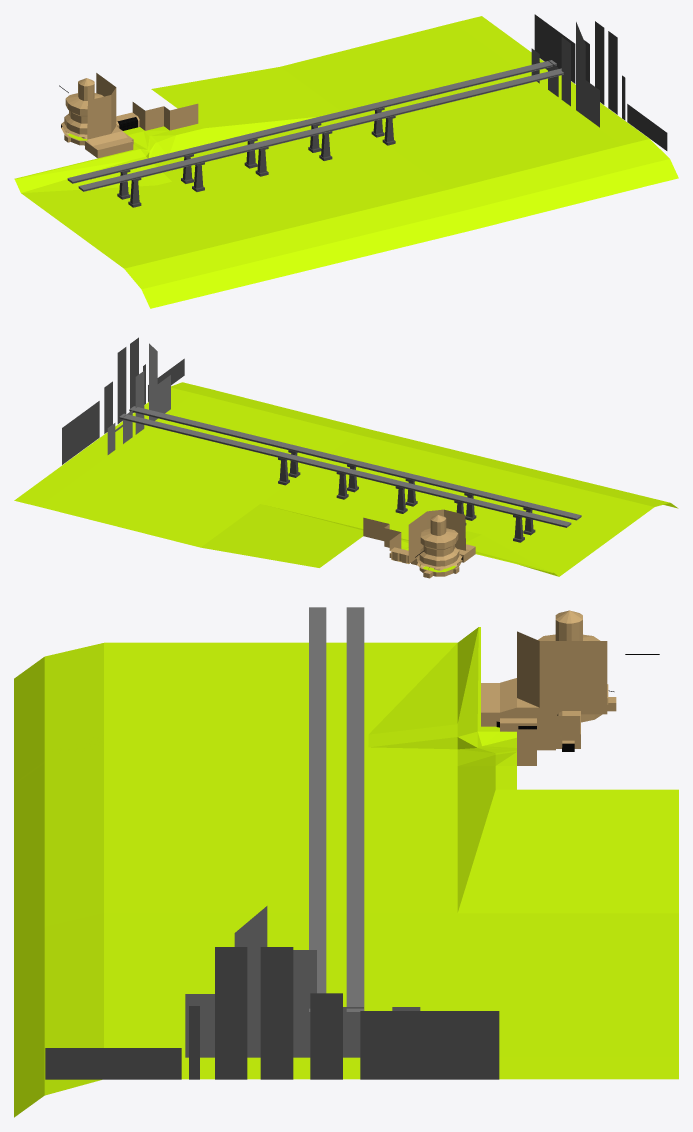
The model's file is Lobby.obj.
3 views of the same model, one above another, from view 1: azimuth 30°, elevation 25°; view 2: azimuth 150°, elevation 25°; view 3: azimuth 270°, elevation 25° (orthographic). The views are drawn at different scales.
Visible parts, largest first — view 1: MAIN_LOBBY_Plane, MAIN_LOBBY.002_Plane.014, MAIN_LOBBY.004_Plane.020, HUB_Plane.001; view 2: MAIN_LOBBY_Plane, MAIN_LOBBY.002_Plane.014, MAIN_LOBBY.004_Plane.020, HUB_Plane.001; view 3: MAIN_LOBBY_Plane, MAIN_LOBBY.004_Plane.020, MAIN_LOBBY.002_Plane.014, HUB_Plane.001.
Part boxes in pixels (box(x1,y1,x2,y2)): MAIN_LOBBY_Plane: box(14, 16, 678, 308); MAIN_LOBBY.002_Plane.014: box(67, 60, 563, 207); MAIN_LOBBY.004_Plane.020: box(531, 14, 667, 150); HUB_Plane.001: box(61, 78, 103, 145); MAIN_LOBBY_Plane: box(14, 382, 678, 576); MAIN_LOBBY.002_Plane.014: box(119, 406, 581, 542); MAIN_LOBBY.004_Plane.020: box(62, 337, 184, 464); HUB_Plane.001: box(417, 515, 462, 578); MAIN_LOBBY_Plane: box(14, 627, 678, 1117); MAIN_LOBBY.004_Plane.020: box(45, 906, 499, 1079); MAIN_LOBBY.002_Plane.014: box(309, 607, 364, 1015); HUB_Plane.001: box(538, 610, 616, 722).
Size of the model in its own units: 83.13 by 16.73 by 52.89.
17 materials, 16 textured.
